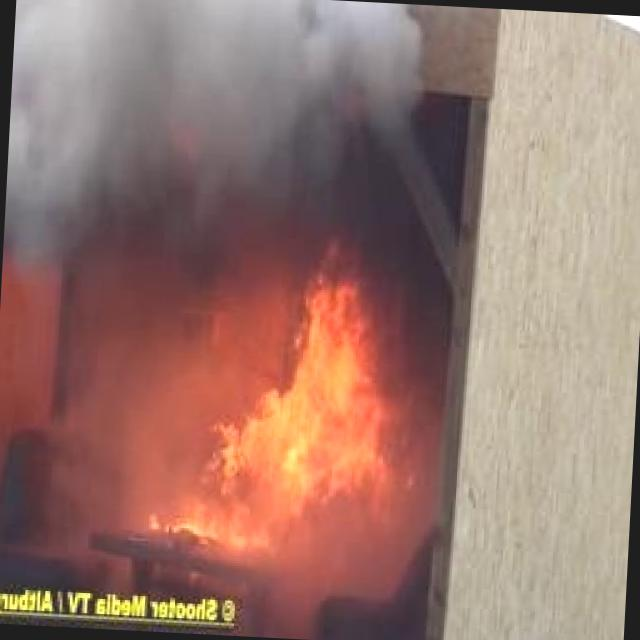fire: (158, 252, 413, 564)
